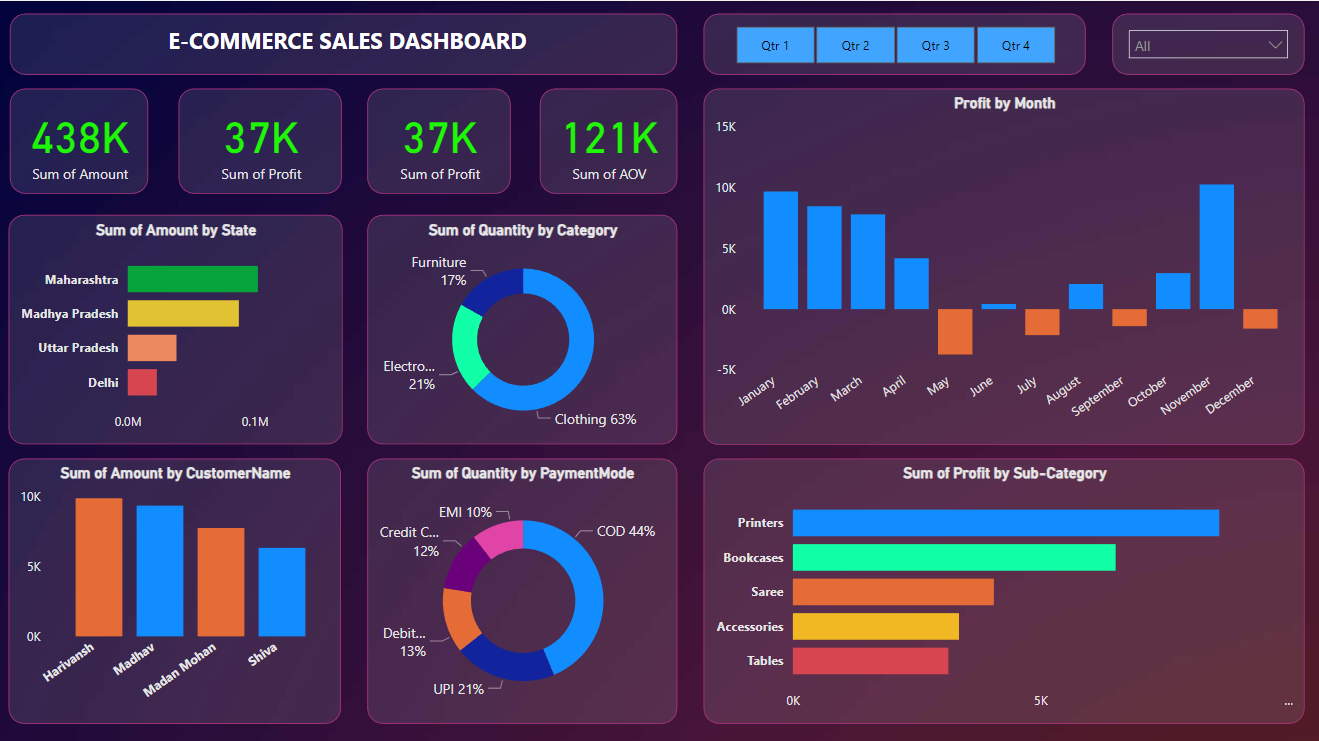

This screenshot's page, from the dashboard's own definition file:
{"tool":"powerbi","page":{"name":"Page 1","canvas":[1280,720],"ordinal":0},"visuals":[{"type":"textbox","box":[13.3,12.1,644,59.1],"z":0},{"type":"columnChart","title":"Profit by Month","fields":{"Category":["Orders.Order Date.Variation.Date Hierarchy.Month"],"Y":["Details.Profit"]},"box":[682.6,84.4,580.1,343.7],"z":1000},{"type":"barChart","fields":{"Category":["Details.Sub-Category"],"Y":["Details.Profit"]},"box":[682.6,441.4,580.1,255.7],"z":2000},{"type":"donutChart","fields":{"Category":["Details.Category"],"Y":["Details.Quantity"]},"box":[358.2,206.2,299.1,221.9],"z":3000},{"type":"donutChart","fields":{"Y":["Details.Quantity"],"Category":["Details.PaymentMode"]},"box":[358.2,441.4,299.1,255.7],"z":4000},{"type":"card","fields":{"Values":["Details.Amount"]},"box":[13.3,84.4,133.9,101.3],"z":5000},{"type":"card","fields":{"Values":["Details.Profit"]},"box":[176.1,84.4,158,101.3],"z":6000},{"type":"card","fields":{"Values":["Details.Profit"]},"box":[358.2,84.4,138.7,101.3],"z":7000},{"type":"card","fields":{"Values":["Details.AOV"]},"box":[524.6,84.4,132.7,101.3],"z":8000},{"type":"barChart","fields":{"Category":["Orders.State"],"Y":["Details.Amount"]},"box":[12.1,206.2,322,221.9],"z":9000},{"type":"columnChart","fields":{"Category":["Orders.CustomerName"],"Y":["Details.Amount"]},"box":[12.1,441.4,320.8,255.7],"z":10000},{"type":"slicer","fields":{"Values":["Orders.Order Date.Variation.Date Hierarchy.Quarter"]},"box":[682.6,12.1,369,59.1],"z":11000},{"type":"slicer","fields":{"Values":["Orders.State"]},"box":[1077,12.1,185.7,59.1],"z":12000}]}

Visuals, with their boxes in screenshot pixels (x1, y1, x2, y2), scaled from the page's 1280x720 canvas onto the 1319x741 screenshot:
textbox: [14, 12, 677, 73]
"Profit by Month" columnChart: [703, 87, 1301, 441]
barChart - Details.Sub-Category x Details.Profit: [703, 454, 1301, 717]
donutChart - Details.Category x Details.Quantity: [369, 212, 677, 441]
donutChart - Details.Quantity x Details.PaymentMode: [369, 454, 677, 717]
card - Details.Amount: [14, 87, 152, 191]
card - Details.Profit: [181, 87, 344, 191]
card - Details.Profit: [369, 87, 512, 191]
card - Details.AOV: [541, 87, 677, 191]
barChart - Orders.State x Details.Amount: [12, 212, 344, 441]
columnChart - Orders.CustomerName x Details.Amount: [12, 454, 343, 717]
slicer - Orders.Order Date.Variation.Date Hierarchy.Quarter: [703, 12, 1084, 73]
slicer - Orders.State: [1110, 12, 1301, 73]
